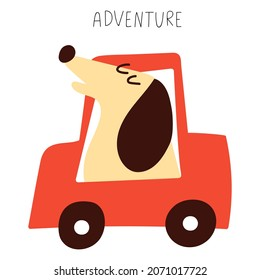car: (27, 50, 234, 249)
dog: (55, 43, 181, 186)
